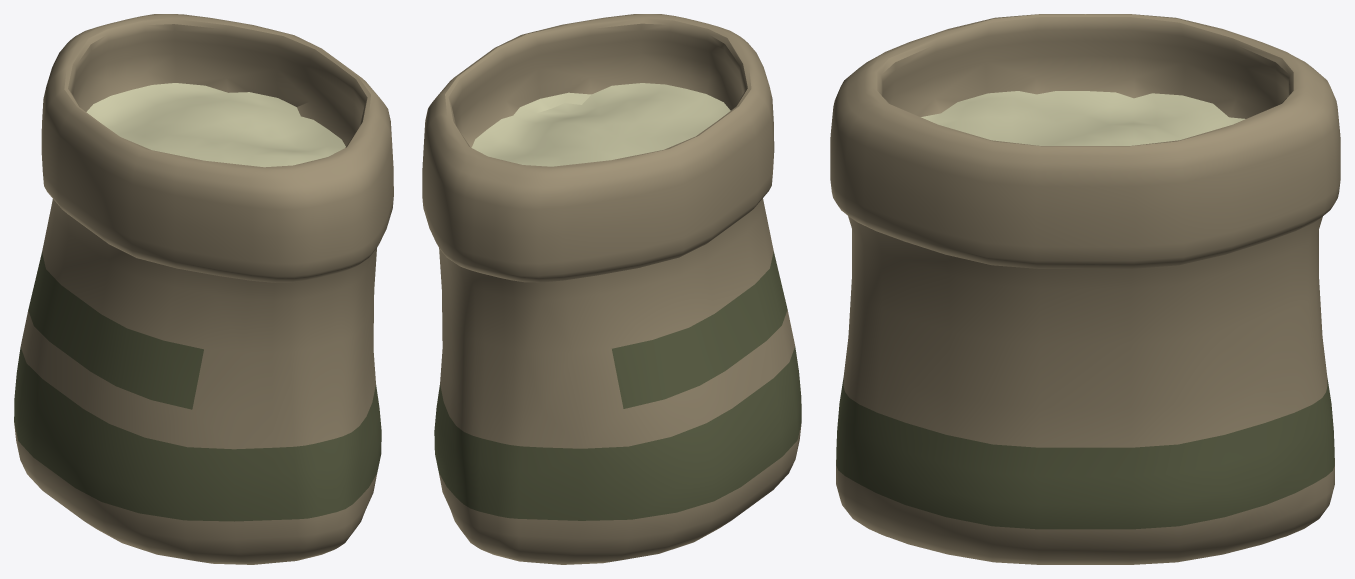
File: sack2.fbx
3 views of the same model, side by side, from view 1: azimuth 30°, elevation 25°; view 2: azimuth 150°, elevation 25°; view 3: azimuth 270°, elevation 25° (orthographic). The views are drawn at different scales.
Visible parts, largest first — view 1: Cube; view 2: Cube; view 3: Cube.
Boxes of the visible parts, box(x1,y1,x2,y2) form: Cube: box(14, 14, 393, 564); Cube: box(422, 14, 801, 564); Cube: box(830, 14, 1340, 564).
Bounding box in the file's own units: 169 × 213 × 222.
